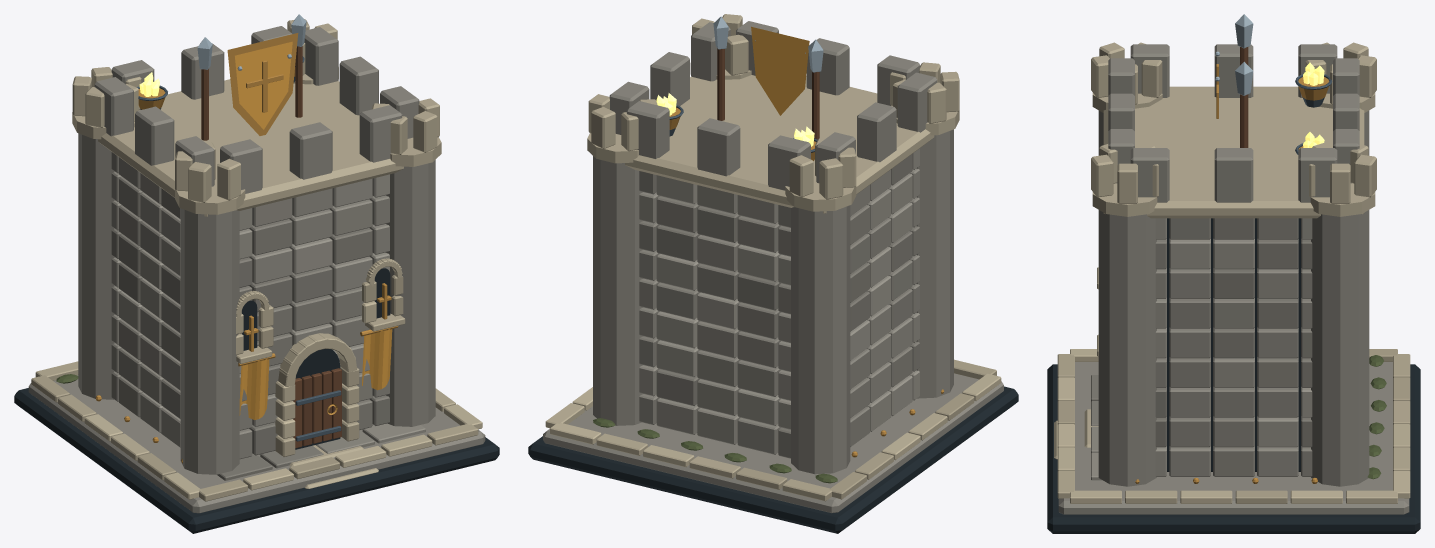
Rendered from militia__guardiao__L15.glb.
3 renders of one model, left to right at view 1: azimuth 30°, elevation 25°; view 2: azimuth 150°, elevation 25°; view 3: azimuth 270°, elevation 25°, orthographic. The views are drawn at different scales.
Visible parts, largest first — view 1: structure, weapon, banners; view 2: structure, weapon; view 3: structure, weapon, effects.
Part boxes in pixels (<box>): structure: <box>14,19,499,533</box>; weapon: <box>197,14,306,140</box>; banners: <box>238,326,398,419</box>; structure: <box>528,14,1018,533</box>; weapon: <box>713,16,823,139</box>; structure: <box>1047,42,1420,533</box>; weapon: <box>1215,14,1253,147</box>; effects: <box>1303,62,1324,147</box>.
Bounding box in the file's own units: 0.803 × 0.9966 × 0.803.
